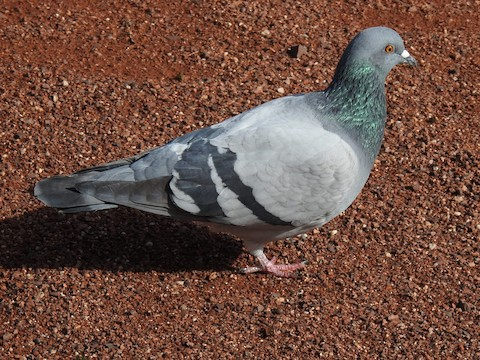pigeon: (33, 22, 421, 281)
